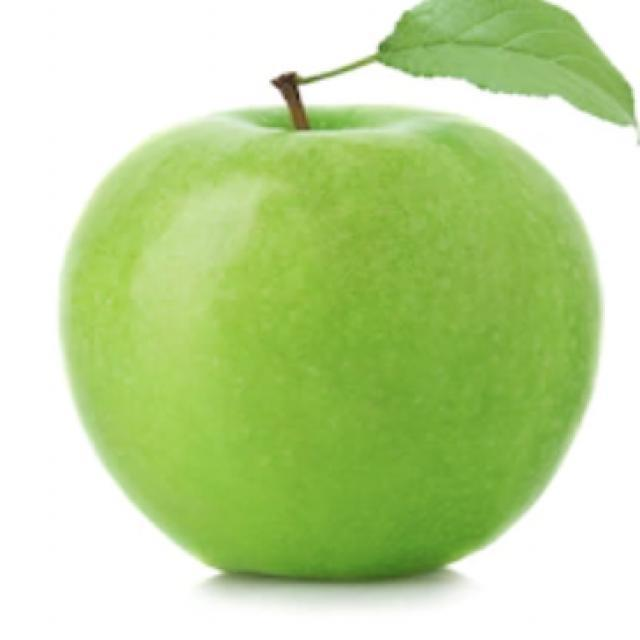Fresh Apple: (58, 115, 605, 575)
